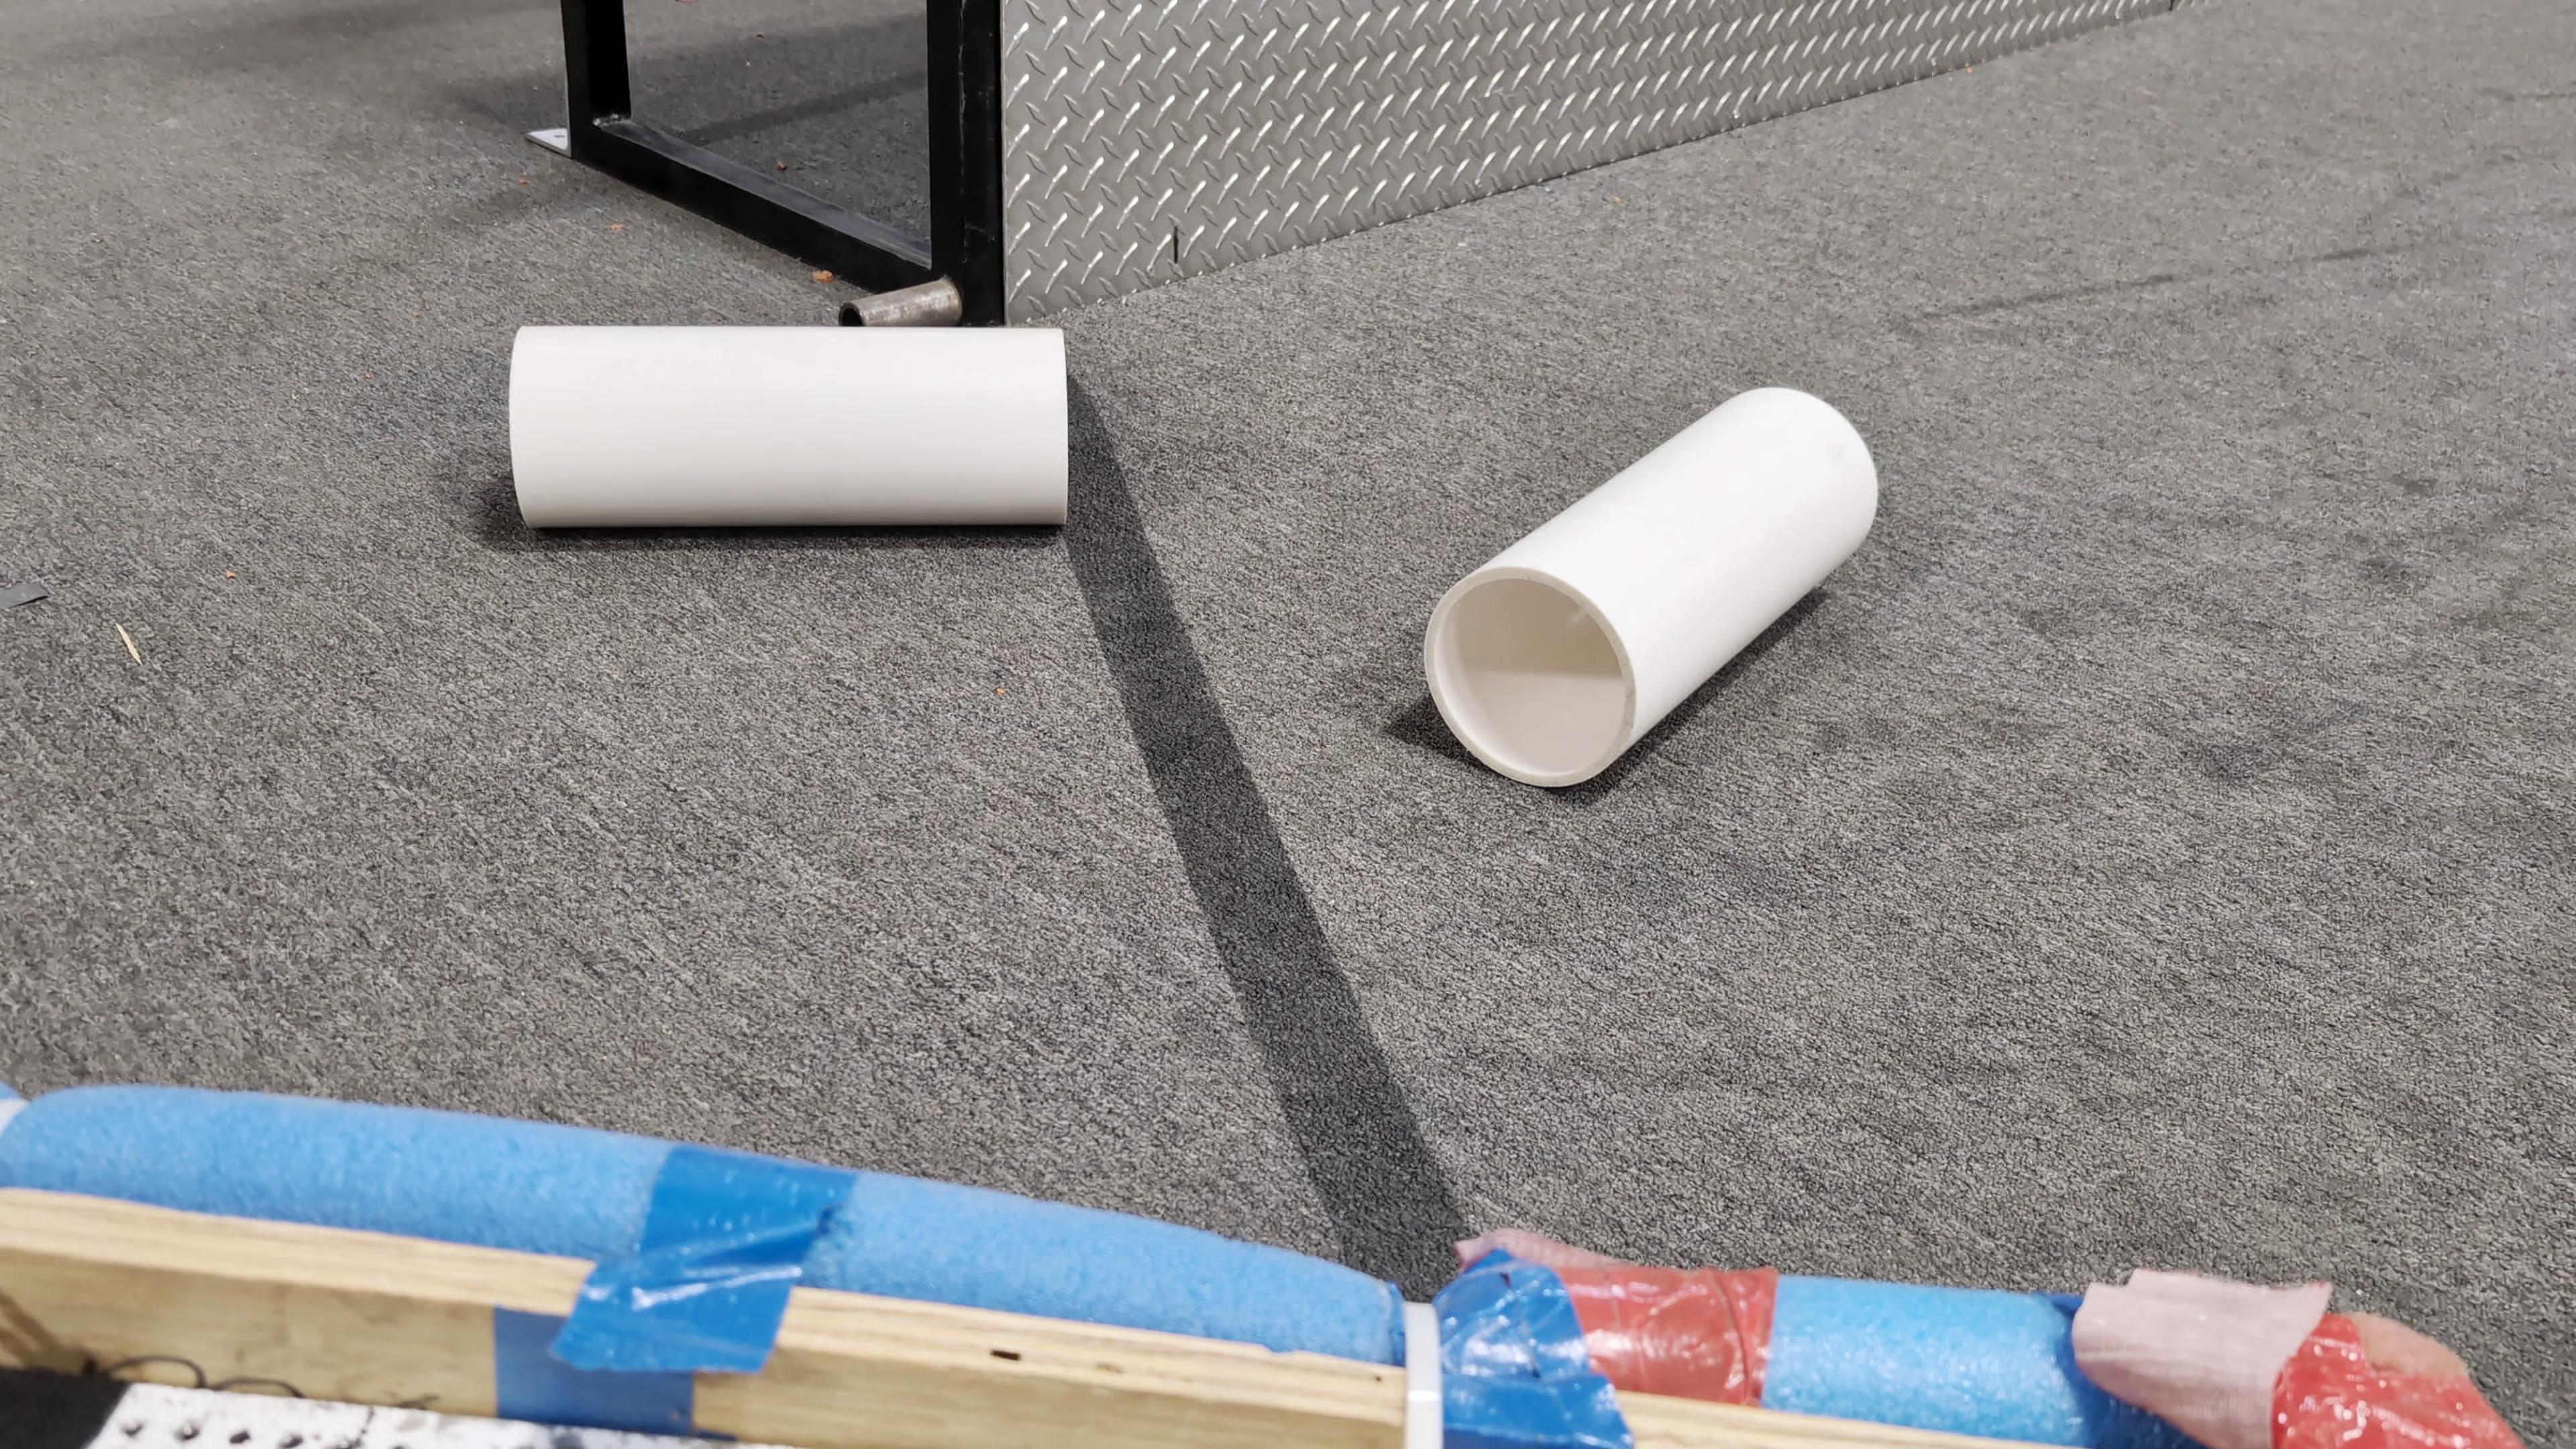coral: (1426, 386, 1878, 790), (510, 325, 1069, 528)
